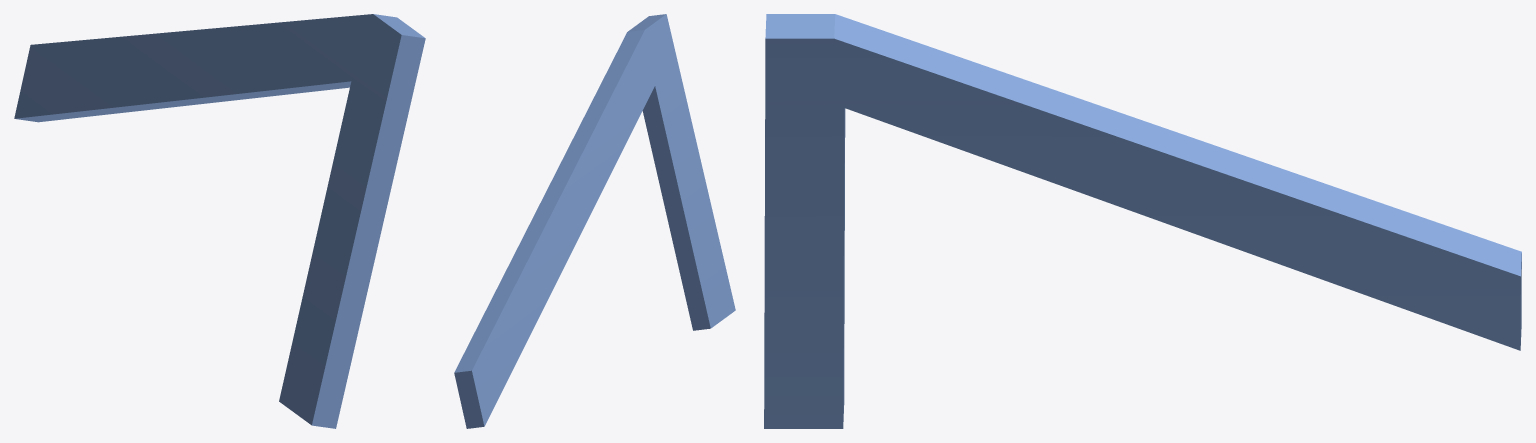
File: New_Number_7.gltf
The picture shows the model from 3 angles, left to right: view 1: azimuth 30°, elevation 25°; view 2: azimuth 150°, elevation 25°; view 3: azimuth 270°, elevation 25°; orthographic projection. The views are drawn at different scales.
Visible parts, largest first — view 1: Part 313; view 2: Part 313; view 3: Part 313.
Boxes of the visible parts, x1,y1,x2,y2 form: Part 313: [14, 14, 425, 428]; Part 313: [454, 14, 735, 428]; Part 313: [764, 14, 1521, 428].
Size of the model in its own units: 0.00115 by 0.00365 by 0.00551.
